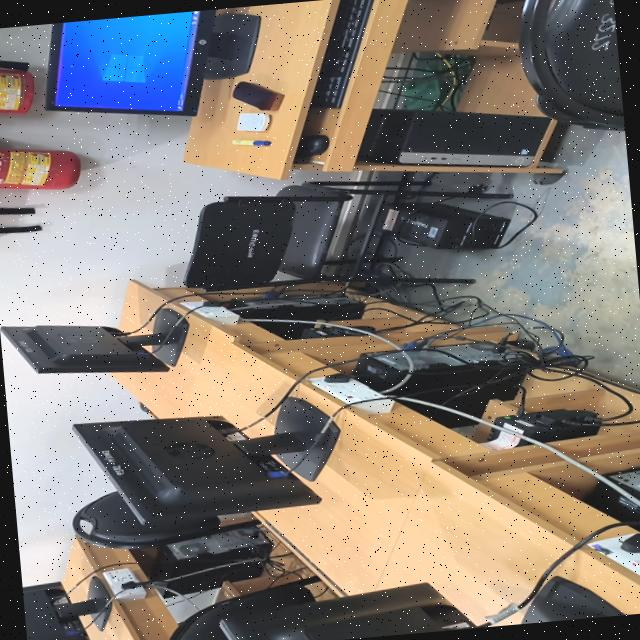Chair: (183, 185, 350, 289), (518, 0, 625, 130), (72, 491, 259, 547), (169, 575, 319, 640)
Cpu: (353, 341, 525, 414), (358, 108, 549, 165), (149, 526, 272, 597), (583, 466, 640, 520), (228, 297, 363, 319), (399, 399, 476, 426), (254, 320, 312, 338)
Fire Extinguisher: (0, 148, 80, 188), (0, 68, 33, 113)
Monitor: (72, 396, 339, 523), (45, 8, 260, 114), (220, 582, 480, 640), (0, 307, 188, 371), (22, 577, 111, 640), (520, 575, 626, 624)
